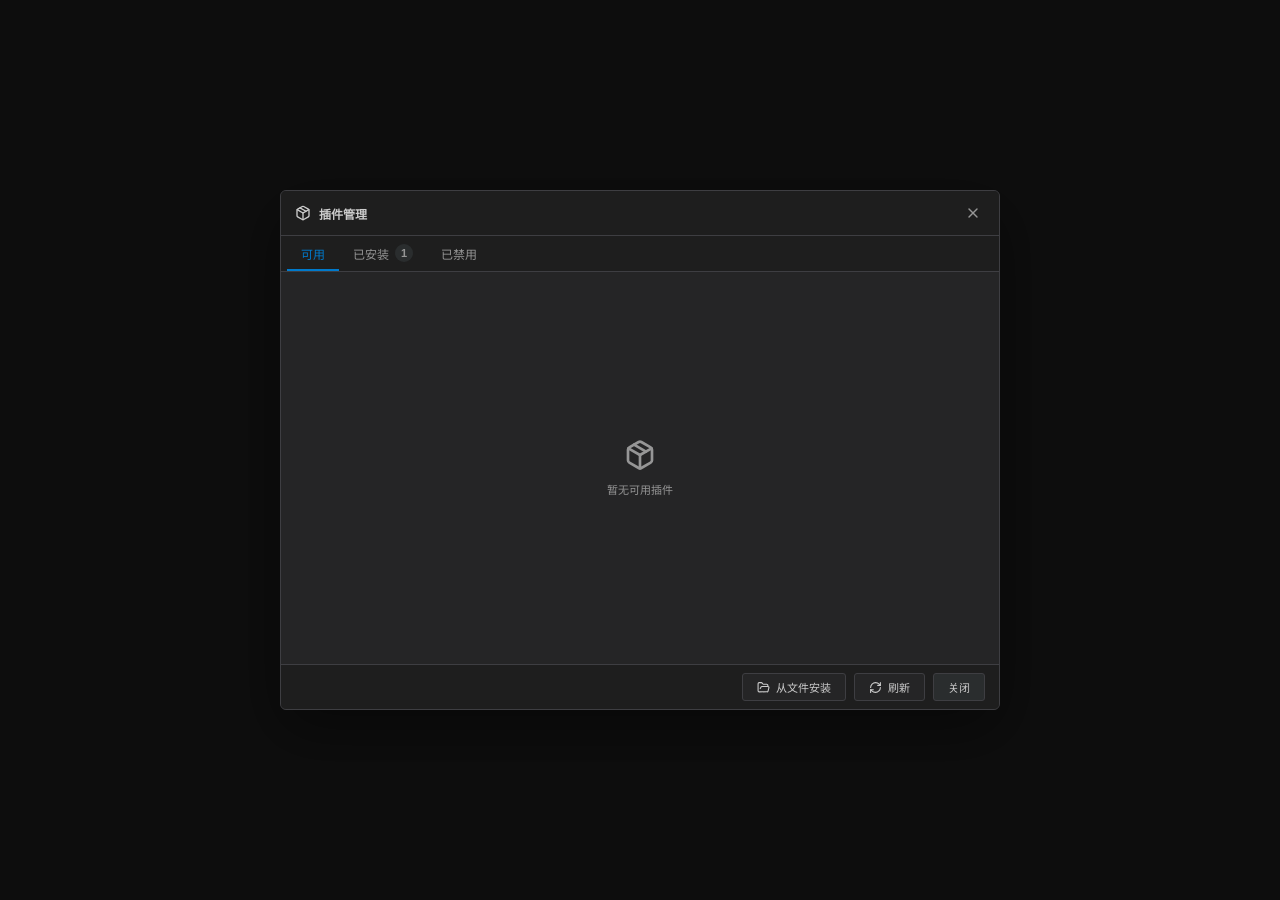
Test: PluginManager › shows installed plugins on the Installed tab
Click the tab "已安装 1" at [383, 254], box x1=339 y1=236 x2=427 y2=271
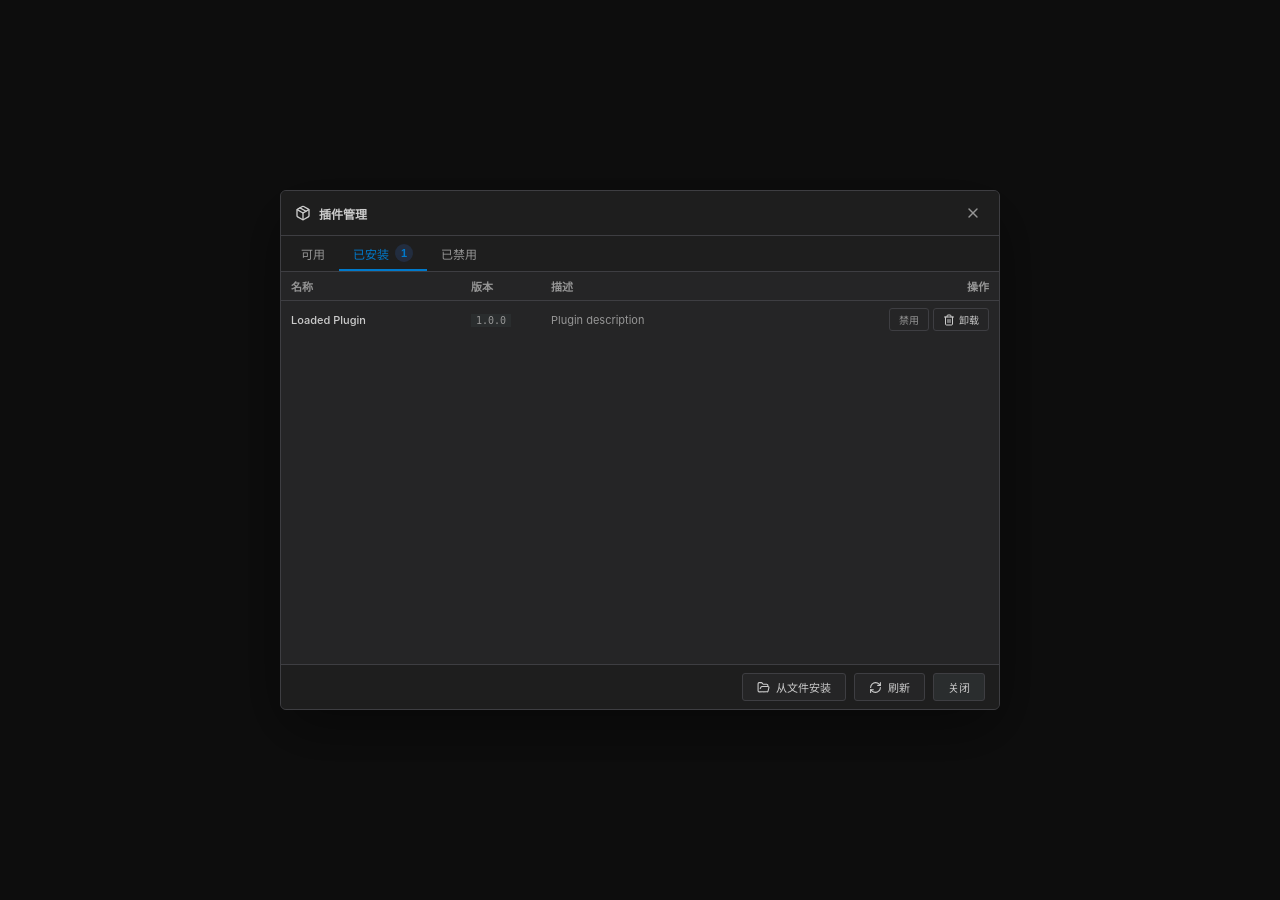
Result: the text "Loaded Plugin" is shown at x1=291 y1=312 x2=366 y2=326
Result: the button titled "卸载" is shown at x1=933 y1=308 x2=989 y2=331
Result: the button titled "禁用" is shown at x1=889 y1=308 x2=929 y2=331
